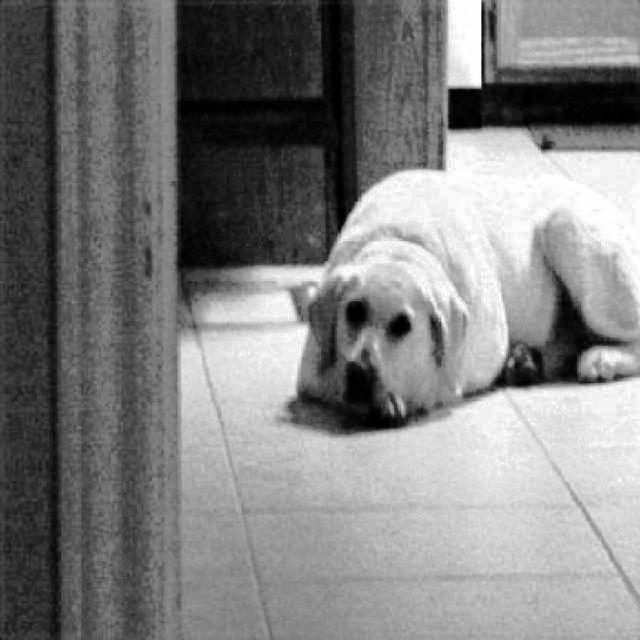Dog: (287, 160, 640, 429)
